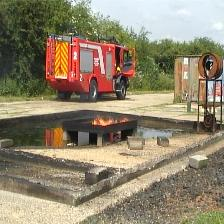fire: (92, 115, 131, 126)
